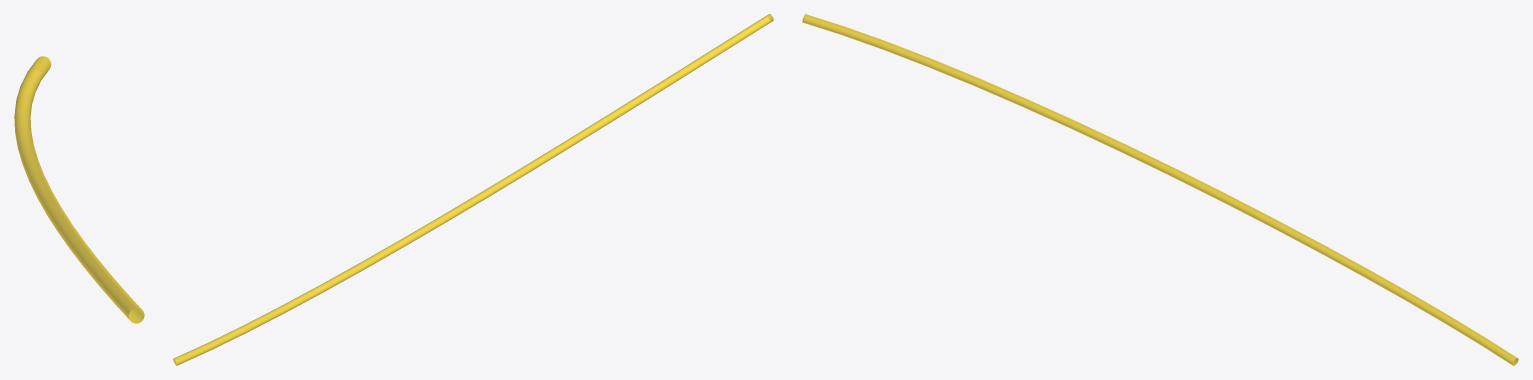
The model's file is Event_15818458_track_35.fbx.
The picture shows the model from 3 angles, left to right: view 1: azimuth 90°, elevation 25°; view 2: azimuth 210°, elevation 25°; view 3: azimuth 330°, elevation 25°; orthographic projection. The views are drawn at different scales.
Visible parts, largest first — view 1: Model; view 2: Model; view 3: Model.
Boxes of the visible parts, x1=… form: Model: x1=14, y1=56, x2=144, y2=323; Model: x1=173, y1=14, x2=773, y2=365; Model: x1=802, y1=14, x2=1518, y2=365.
Bounding box in the file's own units: 3.52 × 0.9936 × 0.3193.
